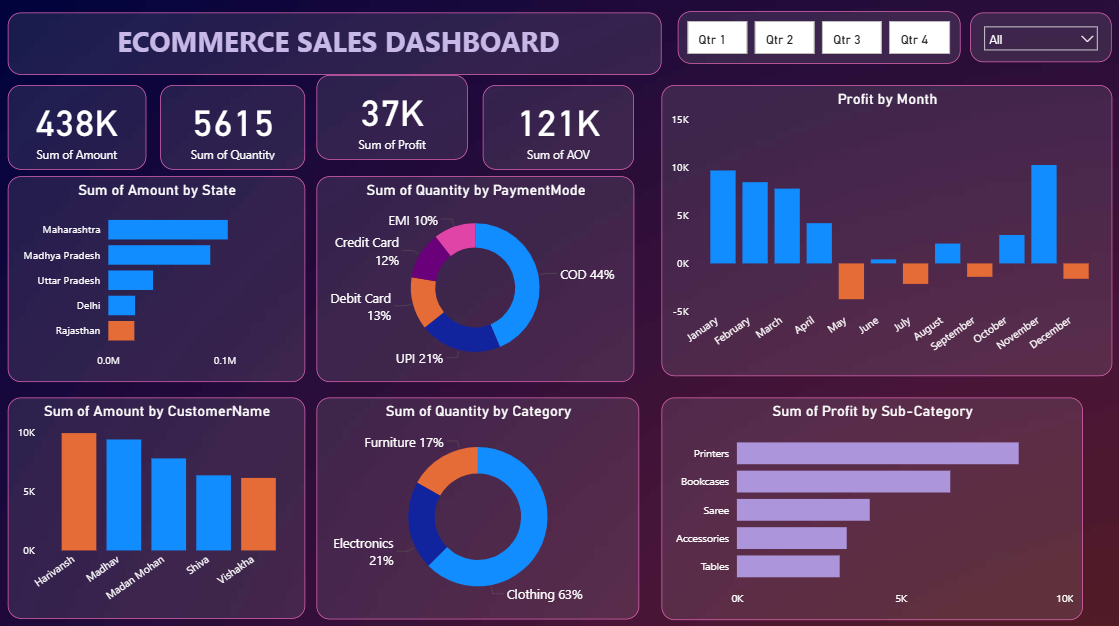

Layout of this report page (visuals, bound fields, positions):
{"tool":"powerbi","page":{"name":"Page 1","canvas":[1280,720],"ordinal":0},"visuals":[{"type":"textbox","box":[9.7,0,746.8,71.2],"z":0},{"type":"columnChart","title":"Profit by Month","fields":{"Category":["Orders.Order Date.Variation.Date Hierarchy.Month"],"Y":["Details.Profit"]},"box":[756.4,96.5,515.2,333],"z":1000},{"type":"barChart","fields":{"Category":["Details.Sub-Category"],"Y":["Details.Profit"]},"box":[756.4,453.6,481.4,254.6],"z":2000},{"type":"donutChart","fields":{"Category":["Details.Category"],"Y":["Details.Quantity"]},"box":[363.1,453.6,369.2,253.4],"z":3000},{"type":"donutChart","fields":{"Y":["Details.Quantity"],"Category":["Details.PaymentMode"]},"box":[363.1,201.5,363.1,235.3],"z":4000},{"type":"card","fields":{"Values":["Details.Amount"]},"box":[26.5,82,159.3,96.5],"z":5000},{"type":"card","fields":{"Values":["Details.Quantity"]},"box":[197.9,82,165.3,96.5],"z":6000},{"type":"card","fields":{"Values":["Details.Profit"]},"box":[374,82,173.7,96.5],"z":7000},{"type":"card","fields":{"Values":["Details.AOV"]},"box":[552.5,82,173.7,96.5],"z":8000},{"type":"barChart","fields":{"Category":["Orders.State"],"Y":["Details.Amount"]},"box":[9.7,201.5,340.2,235.3],"z":9000},{"type":"columnChart","fields":{"Category":["Orders.CustomerName"],"Y":["Details.Amount"]},"box":[10,454,340,253],"z":10000},{"type":"advancedSlicerVisual","fields":{"Values":["Orders.Order Date.Variation.Date Hierarchy.Quarter"]},"box":[775.7,13.3,323.3,60.3],"z":10001},{"type":"slicer","fields":{"Values":["Orders.State"]},"box":[1109.9,14.5,161.7,56.7],"z":10002}]}

Visuals, with their boxes in screenshot pixels (x1, y1, x2, y2), scaled from the page's 1280x720 canvas onto the 1120x626 screenshot:
textbox: box=[8, 0, 662, 62]
"Profit by Month" columnChart: box=[662, 84, 1113, 373]
barChart - Details.Sub-Category x Details.Profit: box=[662, 394, 1083, 616]
donutChart - Details.Category x Details.Quantity: box=[318, 394, 641, 615]
donutChart - Details.Quantity x Details.PaymentMode: box=[318, 175, 635, 380]
card - Details.Amount: box=[23, 71, 163, 155]
card - Details.Quantity: box=[173, 71, 318, 155]
card - Details.Profit: box=[327, 71, 479, 155]
card - Details.AOV: box=[483, 71, 635, 155]
barChart - Orders.State x Details.Amount: box=[8, 175, 306, 380]
columnChart - Orders.CustomerName x Details.Amount: box=[9, 395, 306, 615]
advancedSlicerVisual - Orders.Order Date.Variation.Date Hierarchy.Quarter: box=[679, 12, 962, 64]
slicer - Orders.State: box=[971, 13, 1113, 62]
